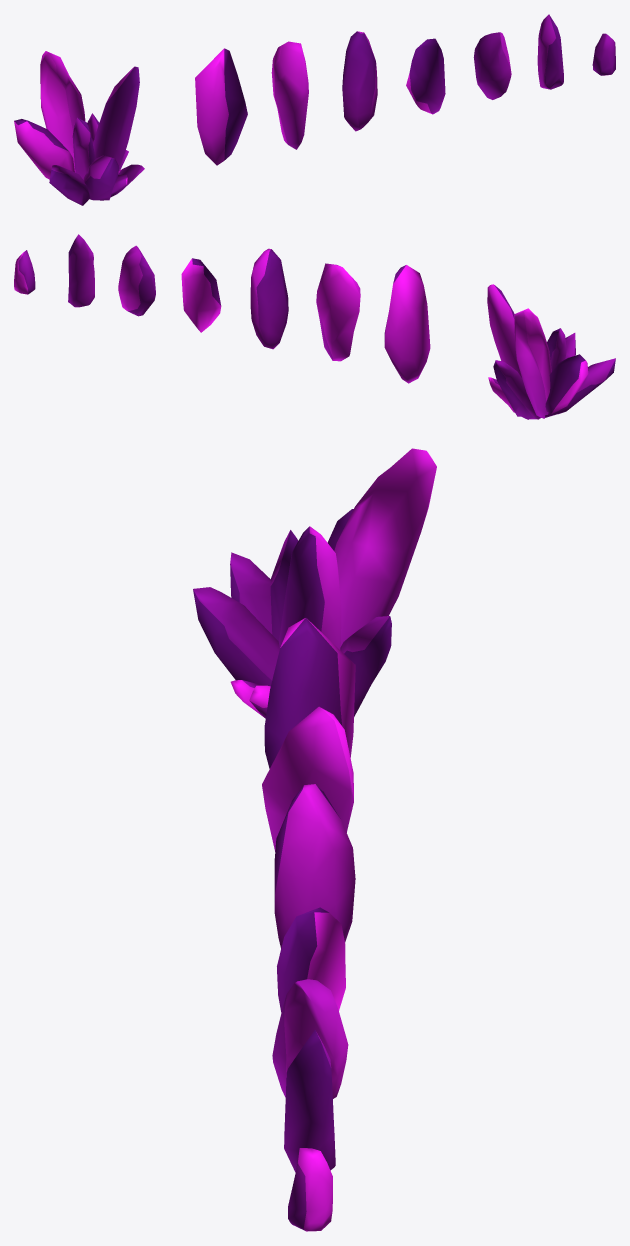
The model's file is gamejam_Crystals.fbx.
3 views of the same model, one above another, from view 1: azimuth 30°, elevation 25°; view 2: azimuth 150°, elevation 25°; view 3: azimuth 270°, elevation 25° (orthographic). The views are drawn at different scales.
Parts seen in each view (by area): view 1: gem006; view 2: gem006; view 3: gem006.
Boxes of the visible parts, x1,y1,x2,y2 form: gem006: (14,14,615,205); gem006: (14,234,615,419); gem006: (193,448,436,1231).
Bounding box in the file's own units: 567 × 121 × 103.
Materials: 1 (1 with a texture image).
